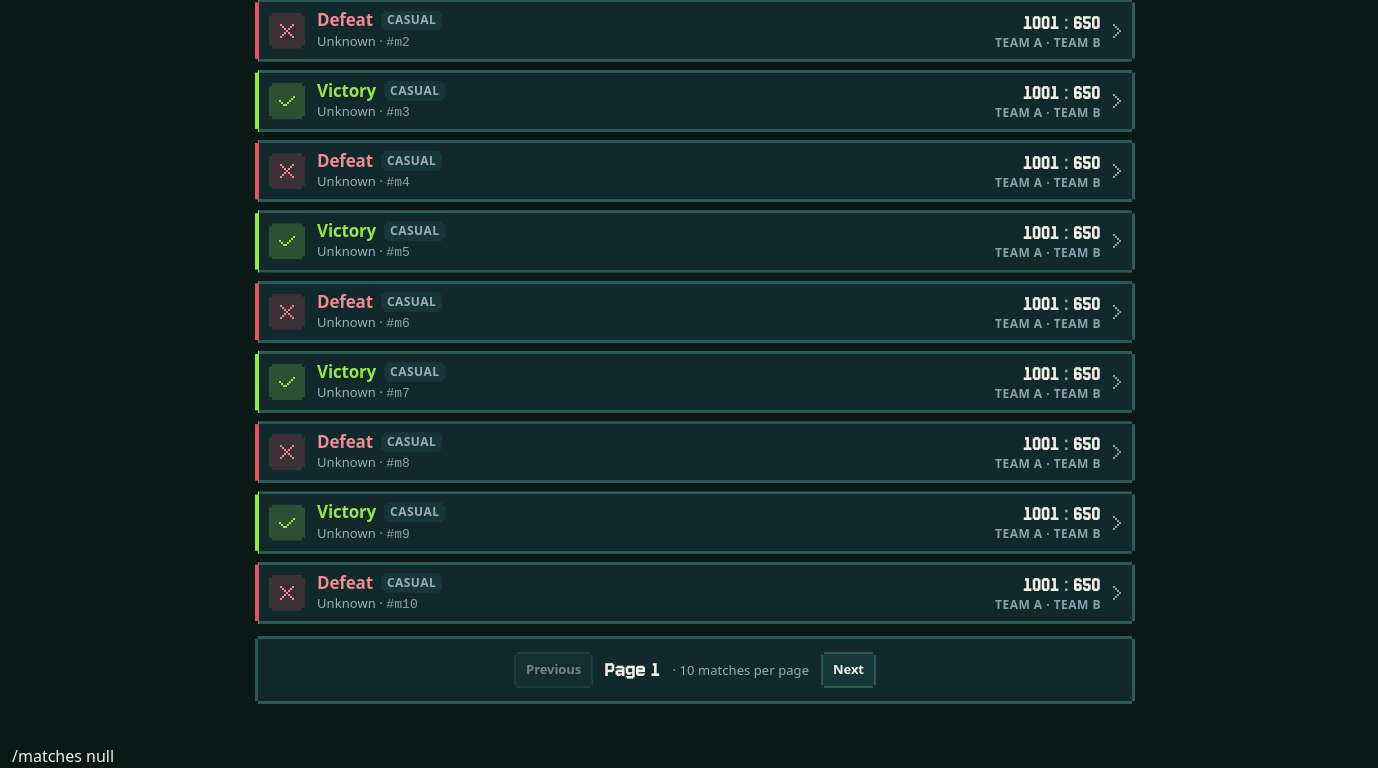
Test case: Match History (spec §4.9 list) › the pager: "Page n", the per-page note on a full page; Next and Previous move the page in the URL
The image size is (1378, 768).
(page scrolled)
expect the text "· 10 matches per page" is shown: met, box [672,661,809,679]
expect the text "Page 1" is shown: met, box [605,658,660,682]
Click the button "Next": x=848, y=670 [821,648,876,692]
(page scrolled)
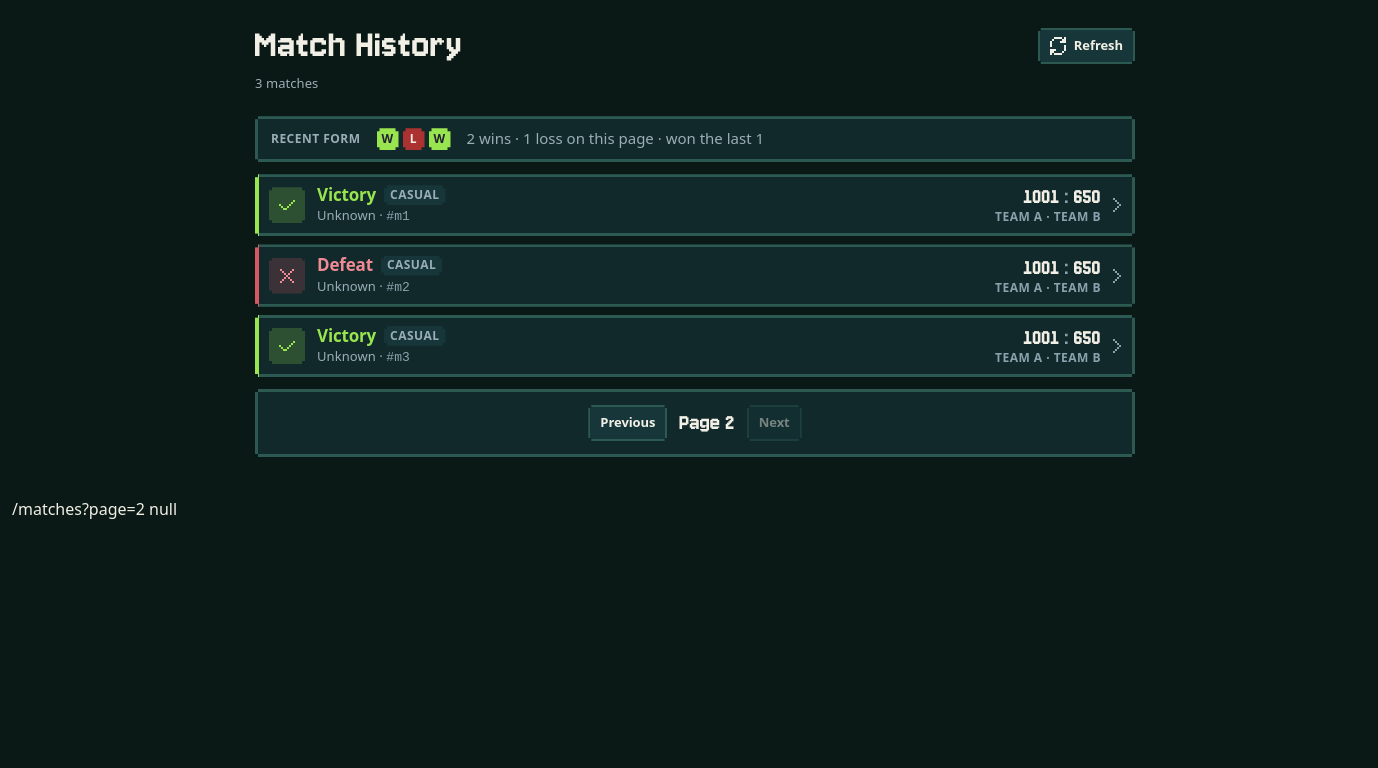
expect the text "3 matches" is shown: met, box [255,74,318,92]
expect the text with test id "where" reads "/matches?page=2 null": met, box [12,498,177,520]
expect the text "Page 2" is shown: met, box [680,411,735,435]
Click the button "Previous": x=628, y=423 [588,401,667,445]
(page scrolled)
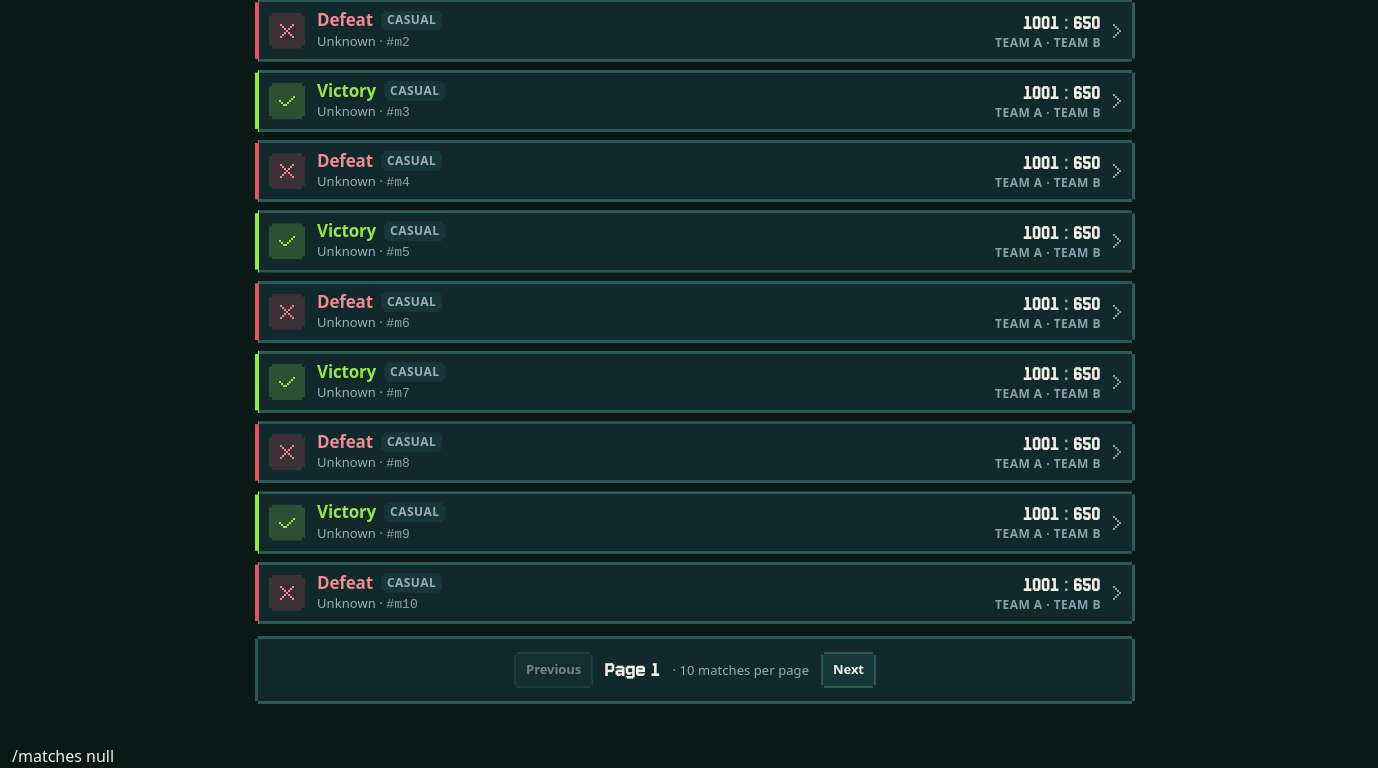
expect the text with test id "where" reads "/matches null": met, box [12,745,114,767]
